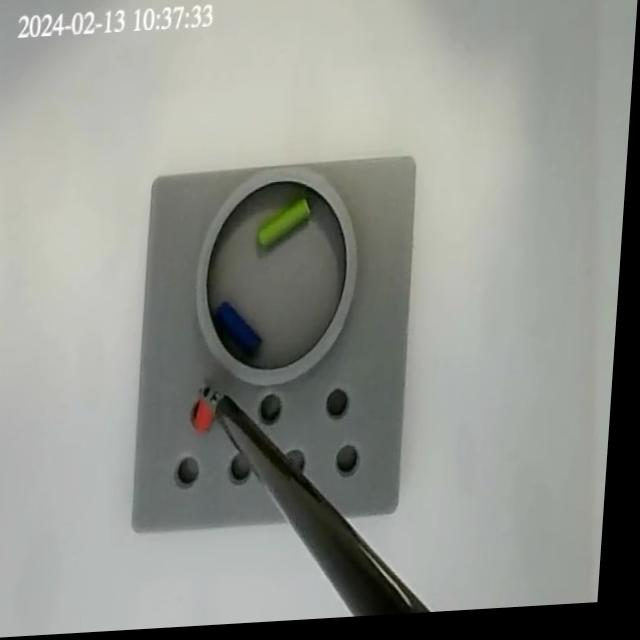EmptyHole: (192, 391, 227, 438), (324, 386, 361, 428), (177, 451, 212, 495), (340, 444, 371, 483), (286, 449, 315, 489), (262, 393, 291, 430), (235, 448, 262, 487)
